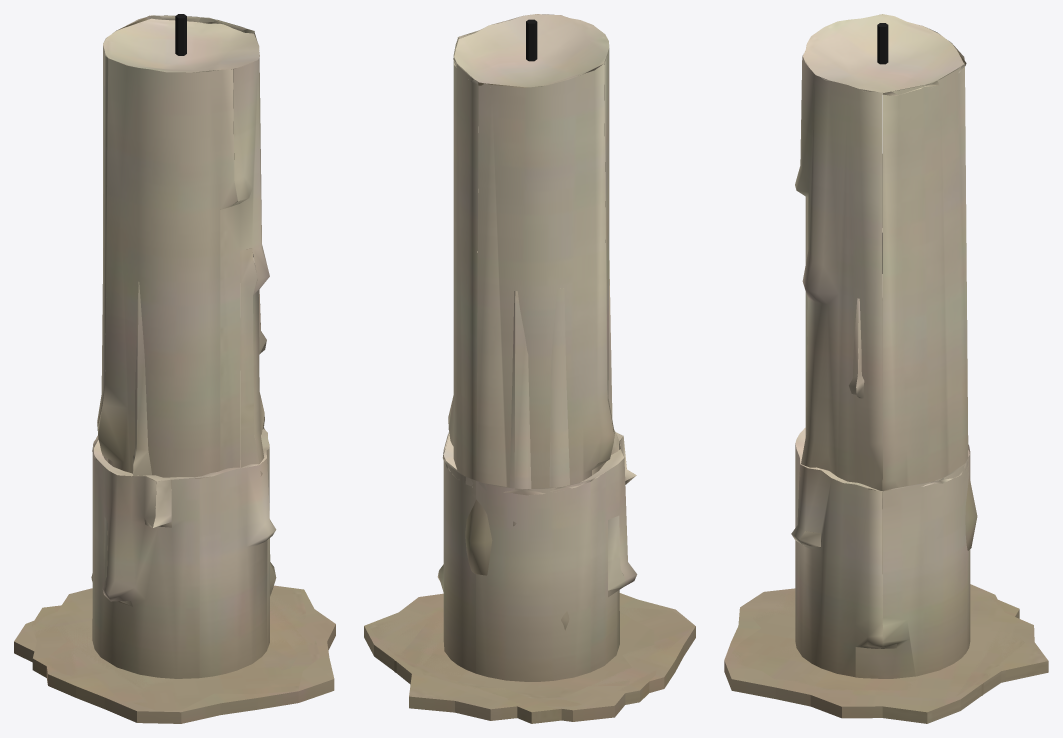
Rendered from candles.glb.
3 renders of one model, left to right at view 1: azimuth 30°, elevation 25°; view 2: azimuth 150°, elevation 25°; view 3: azimuth 270°, elevation 25°, orthographic.
Parts seen in each view (by area): view 1: candle_tall, candle_short, candle_mid; view 2: candle_tall, candle_short, candle_mid; view 3: candle_tall, candle_short, candle_mid.
Boxes of the visible parts, <box> form: candle_tall: <box>49,15,297,689</box>; candle_short: <box>14,428,335,723</box>; candle_mid: <box>32,254,320,710</box>; candle_tall: <box>394,14,654,698</box>; candle_short: <box>364,432,695,721</box>; candle_mid: <box>369,251,694,723</box>; candle_tall: <box>766,14,990,695</box>; candle_short: <box>724,427,1048,723</box>; candle_mid: <box>731,228,1024,696</box>.
Bounding box in the file's own units: 0.1236 × 0.27 × 0.1262.
Materials: 4 (3 with a texture image).
